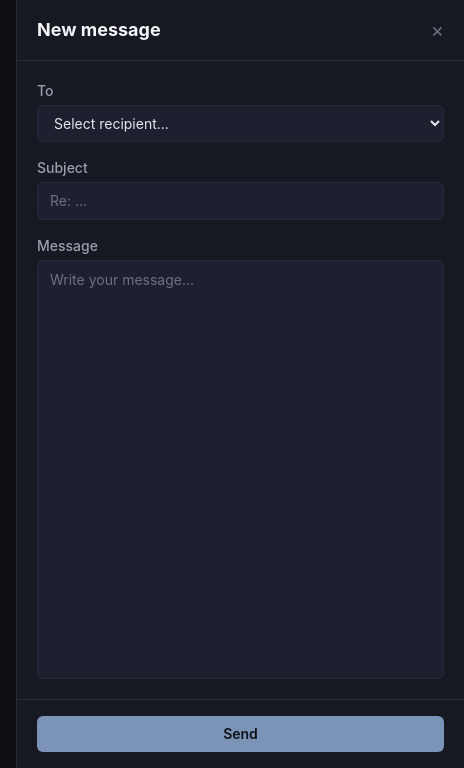
MessageComposer › disables send button while sending
Step 1. Select "CFO" in the dropdown with test id "composer-to" → (240,124), box x1=37 y1=105 x2=444 y2=142
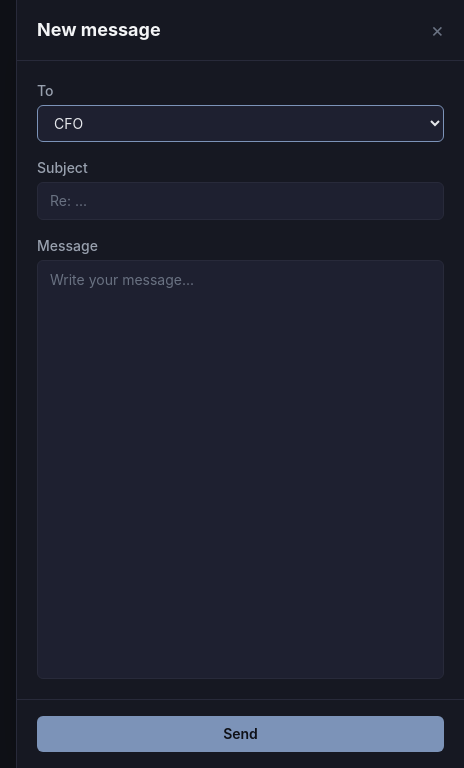
Step 2. Type "Test" into the field with test id "composer-subject" → (240,201), box x1=37 y1=182 x2=444 y2=220
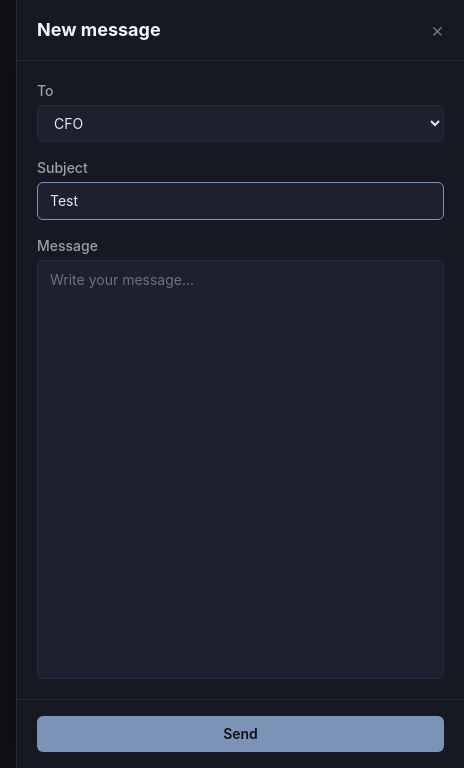
Step 3. Type "Body" into the text box with test id "composer-message" → (240,470), box x1=37 y1=260 x2=444 y2=679
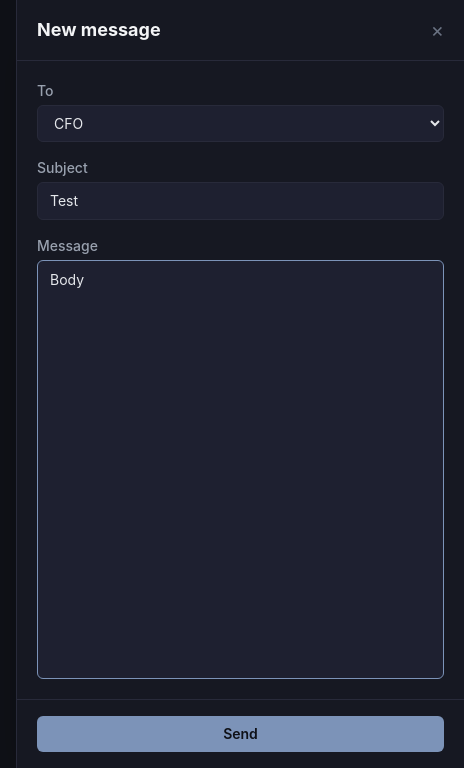
Step 4. Click the button with test id "composer-send" → (240,734), box x1=37 y1=716 x2=444 y2=752
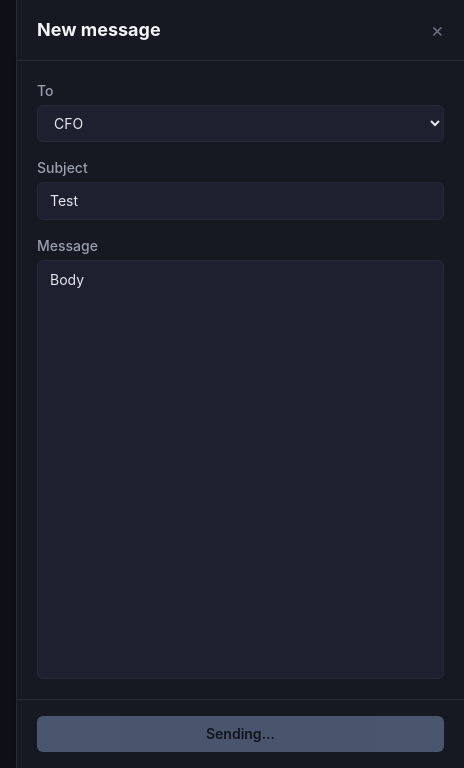
expect the button with test id "composer-send" is disabled: met, box x1=37 y1=716 x2=444 y2=752
expect the button with test id "composer-send" reads "Sending...": met, box x1=37 y1=716 x2=444 y2=752
